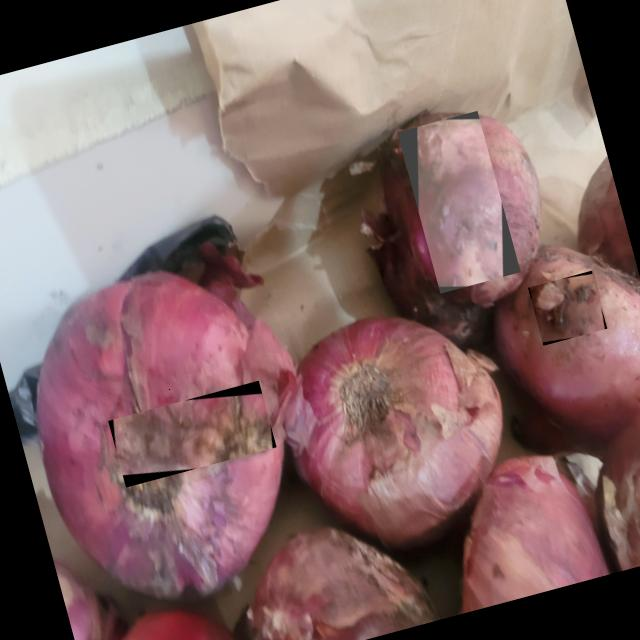rotten: (397, 110, 520, 293), (108, 380, 276, 487), (528, 269, 609, 345), (168, 388, 170, 389)
